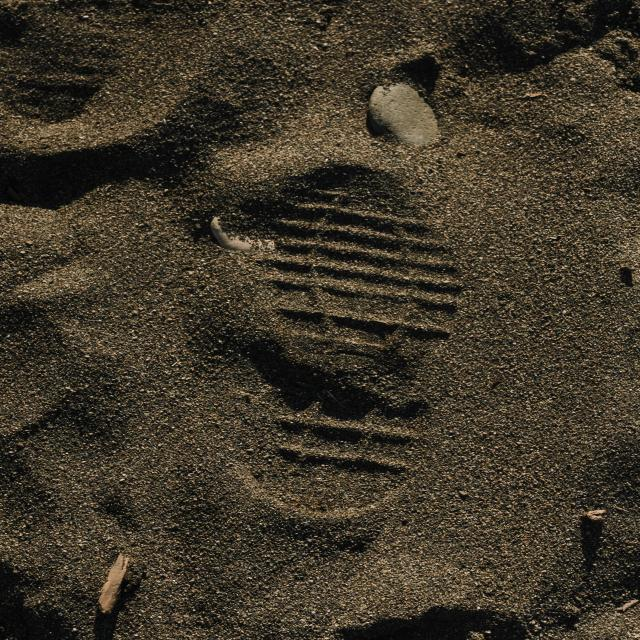human_footprint: (185, 112, 473, 570)
